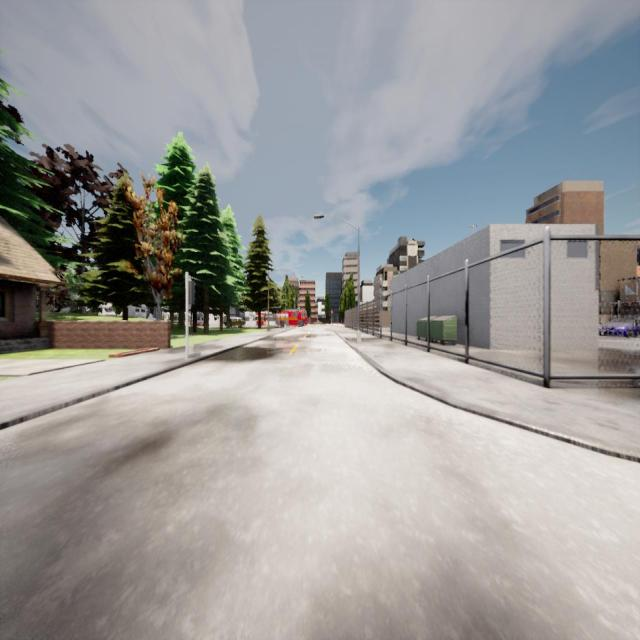Vehicle: (602, 320, 640, 335), (276, 309, 306, 326), (222, 316, 244, 327)
traffic_light: (189, 281, 195, 304), (331, 310, 333, 315)
